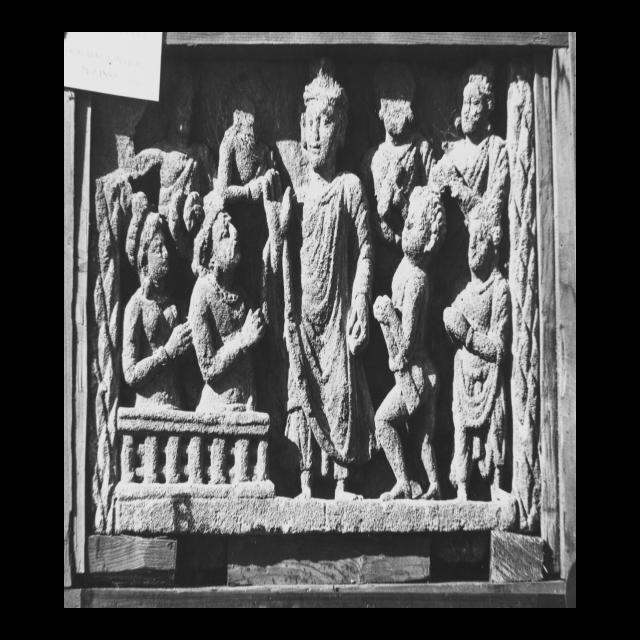buddha-standing: (283, 69, 375, 494)
